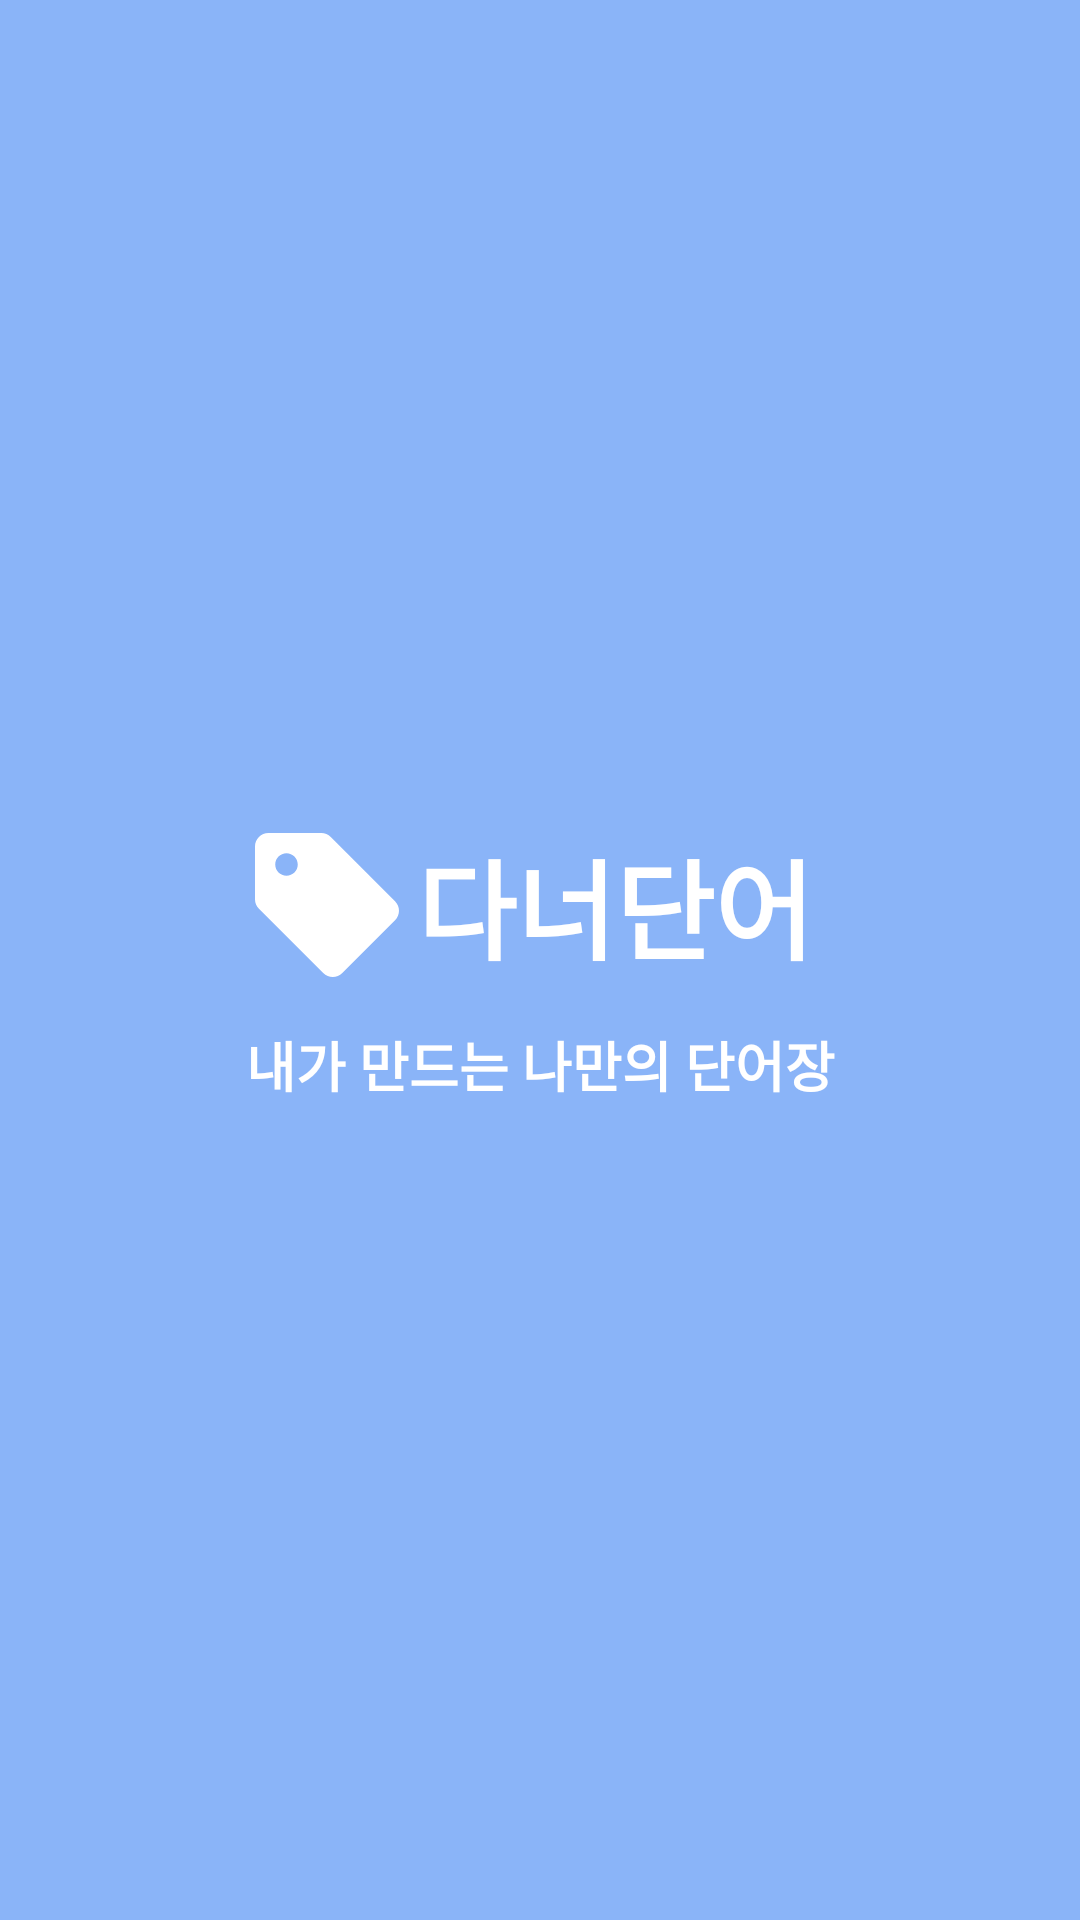

Where to tap for icons on this 1080×1920 app screen, as point (x, y):
sell: point (327, 905)
